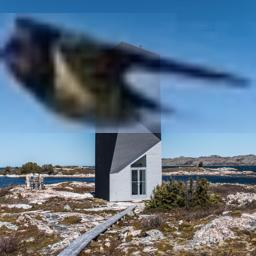Swallow: (0, 13, 256, 133)
